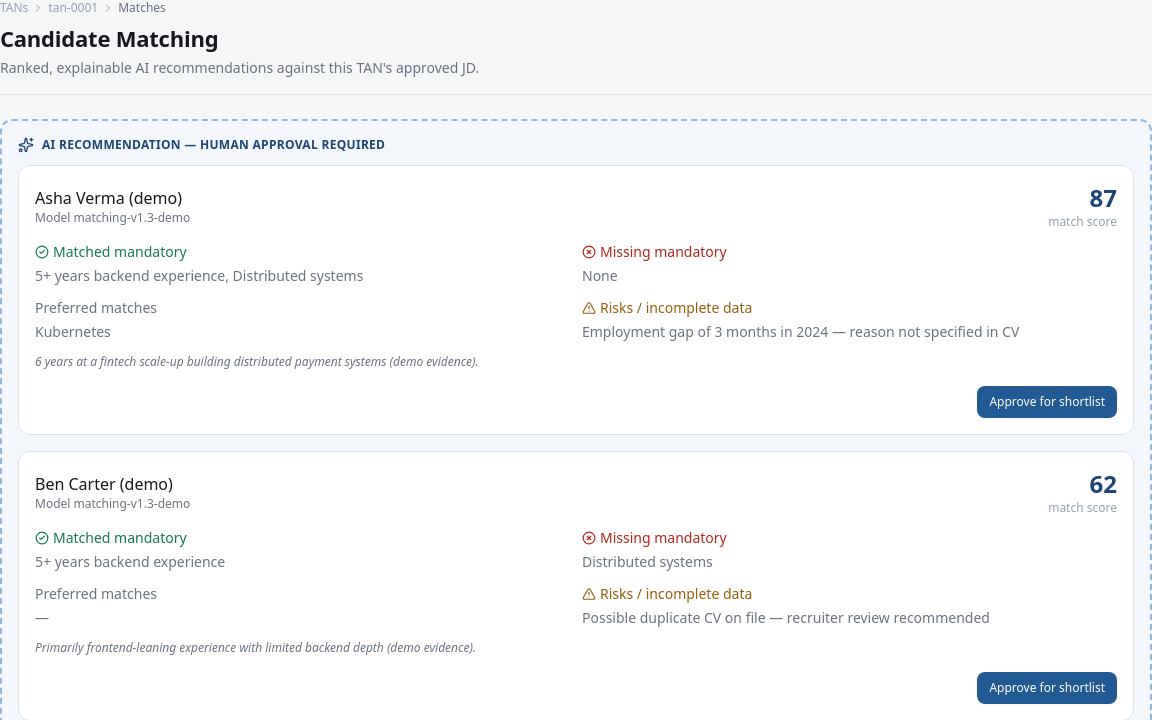
Scenario: CandidateMatchesPage › never approves a shortlist without explicit confirmation
This screenshot has width=1152, height=720.
Click the button "Approve for shortlist" below "87". click: point(1047, 402)
box: left=977, top=386, right=1117, bottom=418
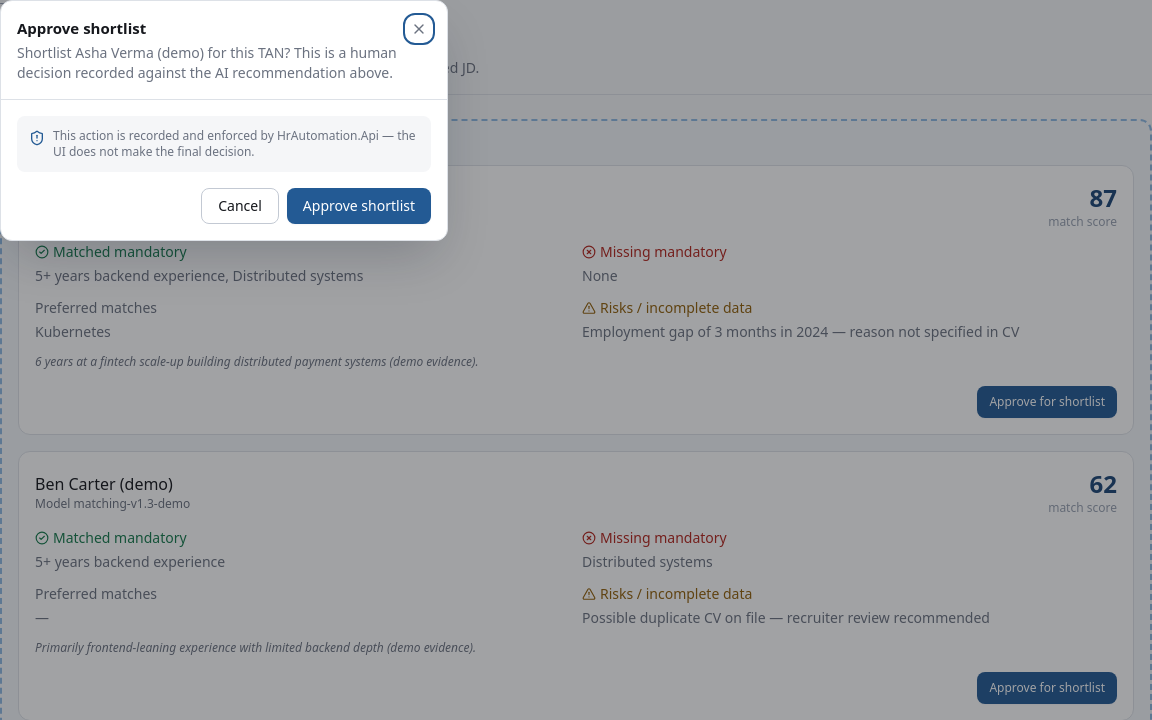
Now the heading "Approve shortlist" is shown, box left=17, top=18, right=146, bottom=38
Now the text "human decision recorded" is shown, box left=17, top=43, right=397, bottom=82
